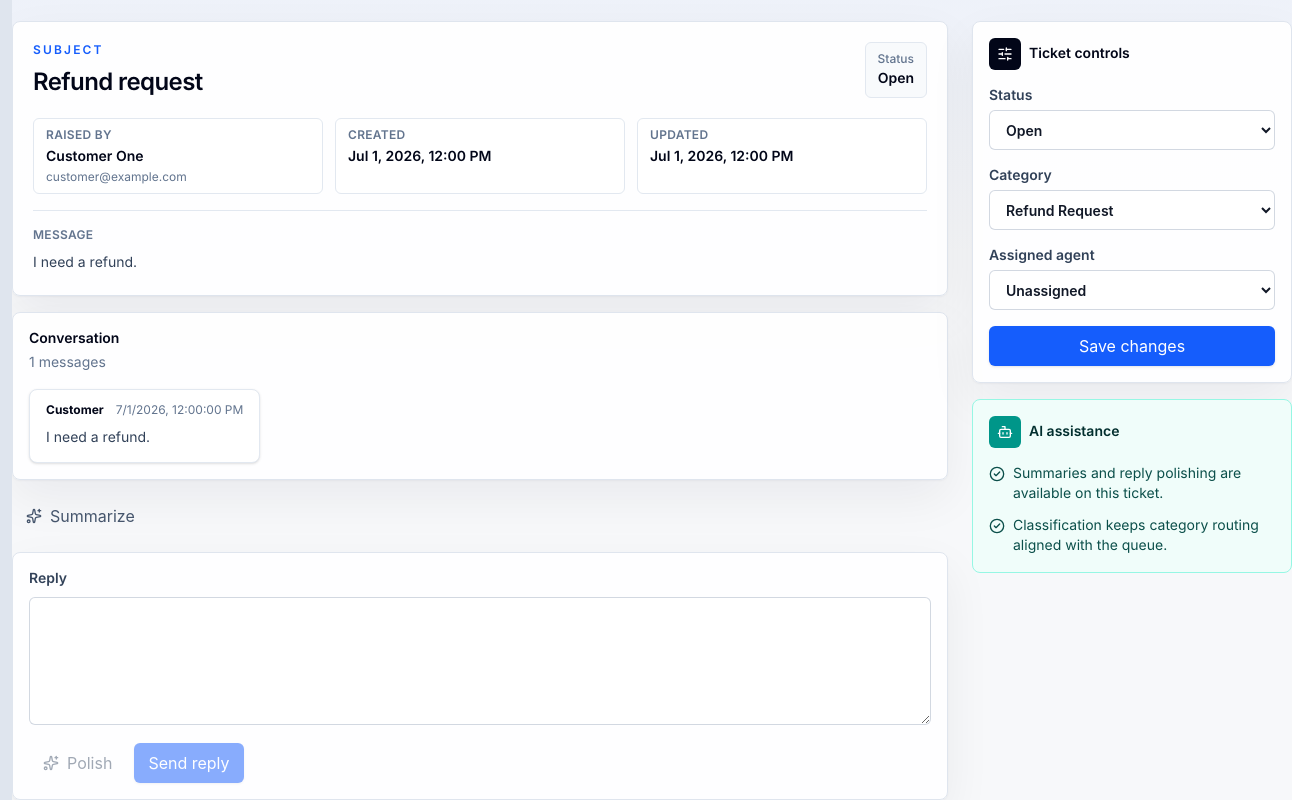
Test: TicketDetailPage › polishes a draft reply
(page scrolled)
Type "refund ok" into the text box labelled "Reply".
click(480, 661); type("refund ok")  # box [29,597,931,725]
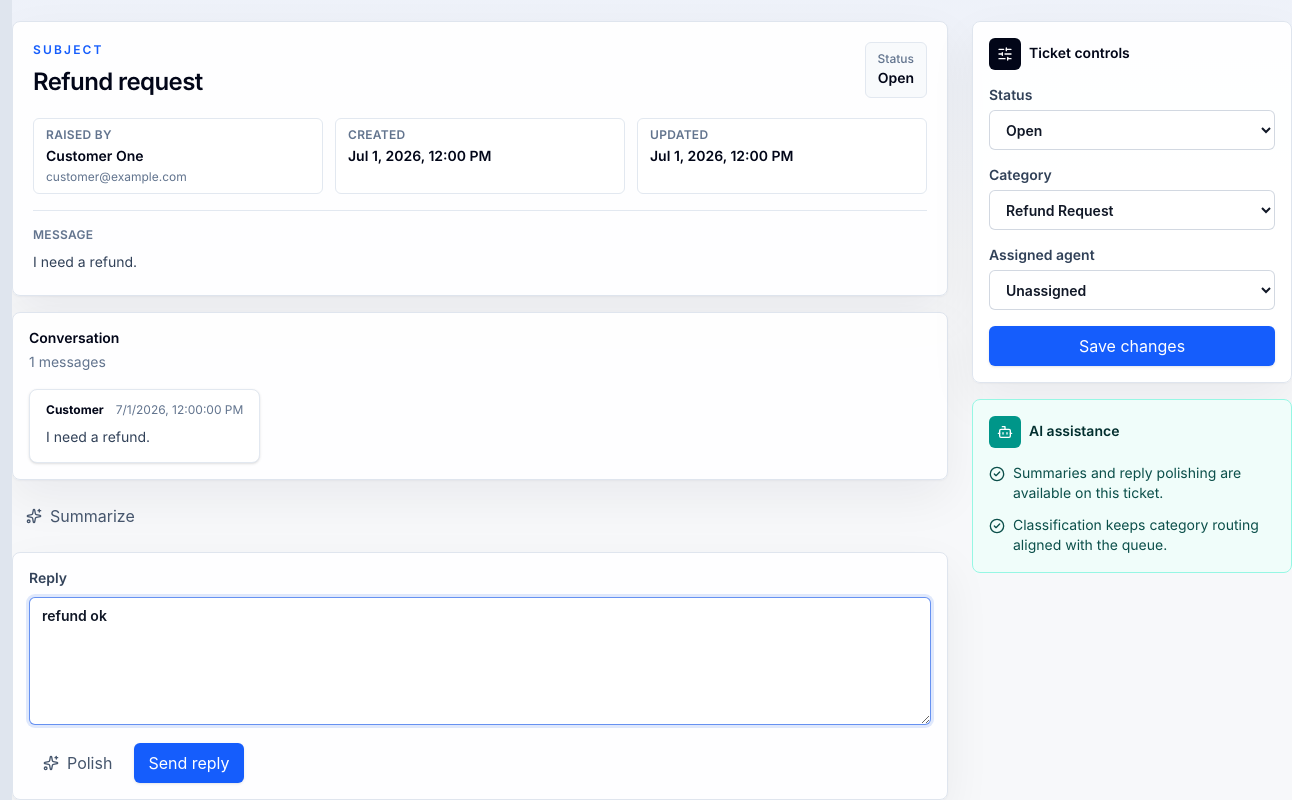
Click the button "Polish".
click(78, 763)  # box [29,743,126,783]
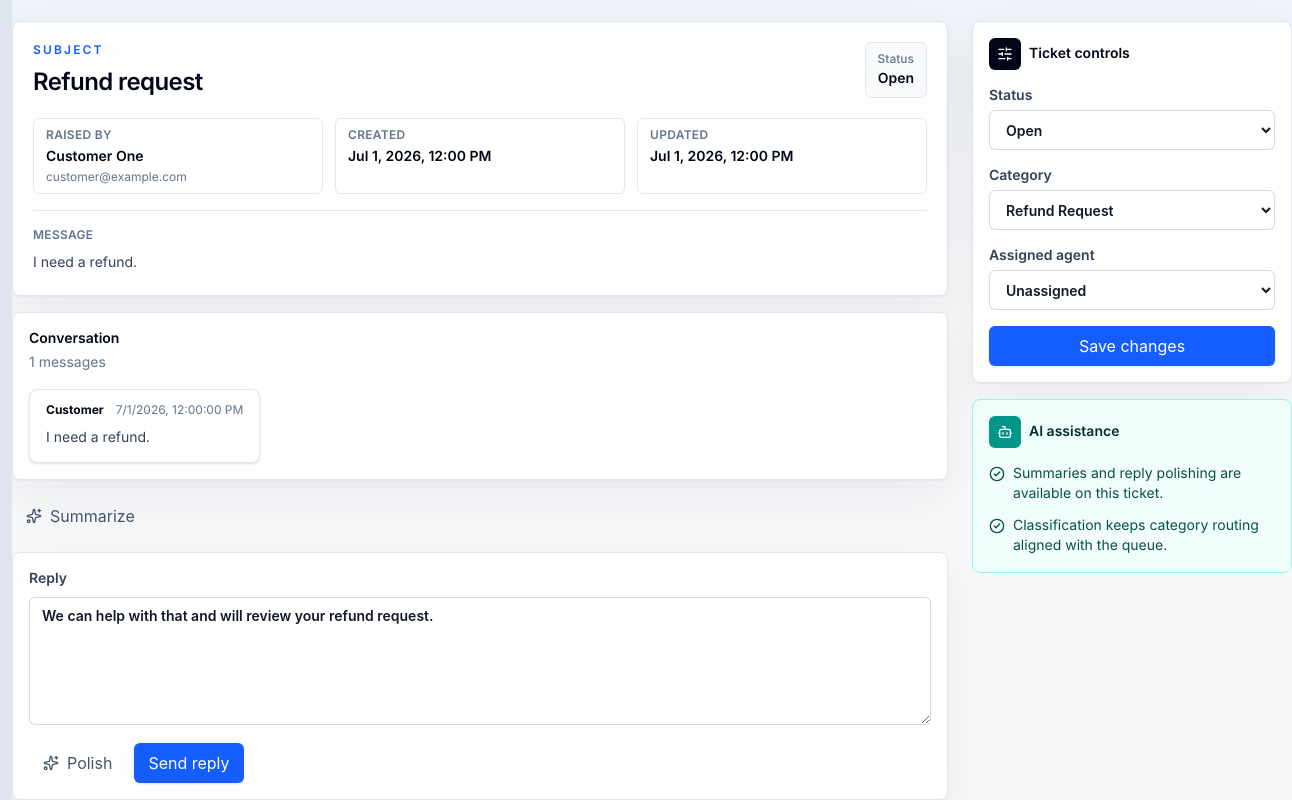
Result: the text box labelled "Reply" holds "We can help with that and will review your refund request." at [29,597,931,725]
